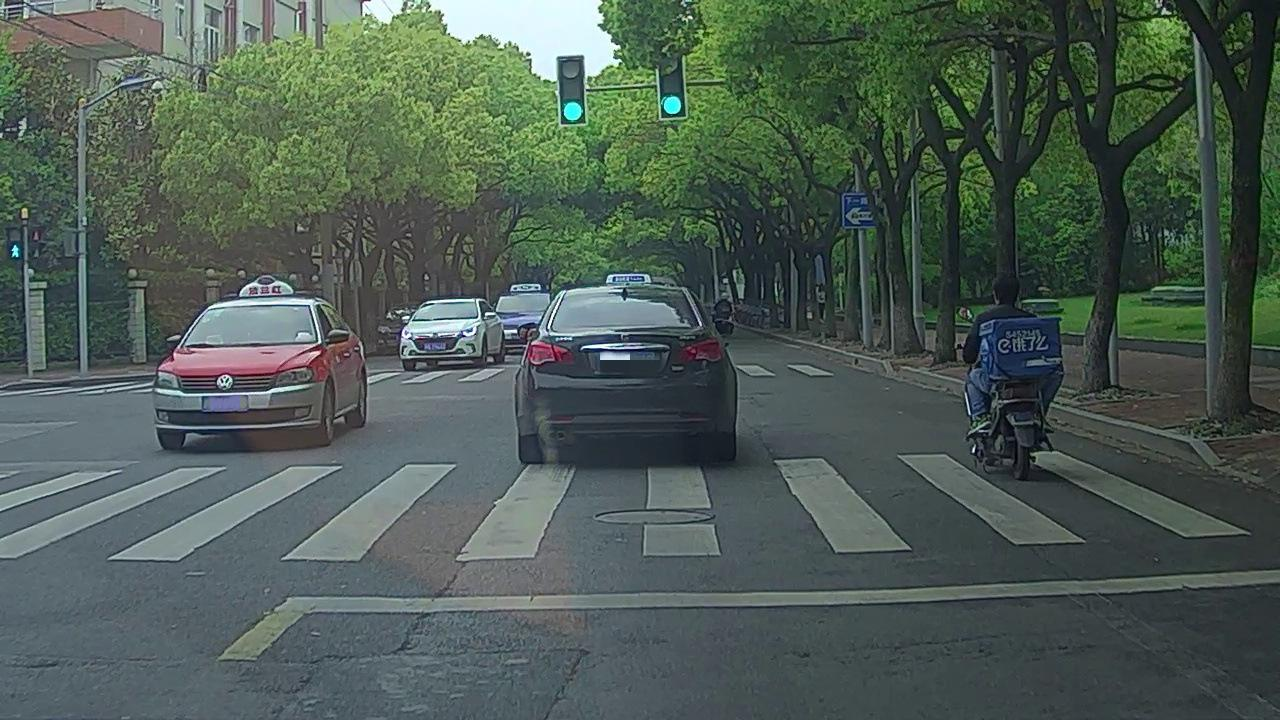traffic_light: (557, 58, 586, 125), (659, 53, 687, 120)
